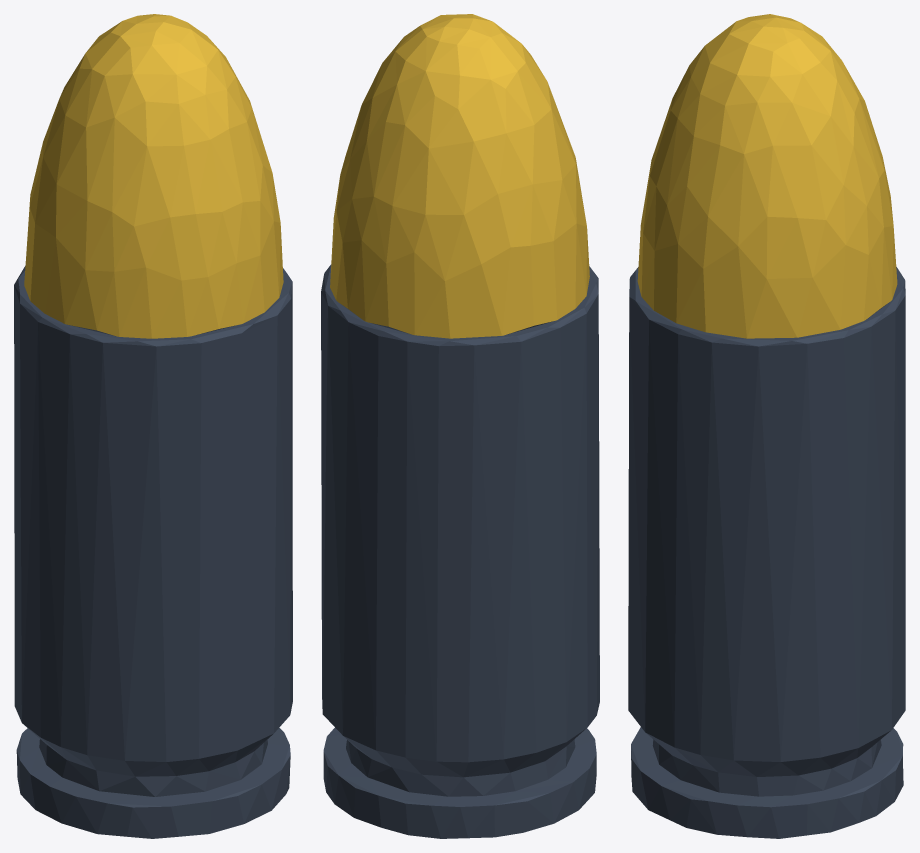
Rendered from NewBullet.obj.
3 views of the same model, side by side, from view 1: azimuth 30°, elevation 25°; view 2: azimuth 150°, elevation 25°; view 3: azimuth 270°, elevation 25° (orthographic).
Parts seen in each view (by area): view 1: Bullet.001; view 2: Bullet.001; view 3: Bullet.001.
Part boxes in pixels (x1=…): Bullet.001: x1=14, y1=14, x2=292, y2=838; Bullet.001: x1=321, y1=14, x2=599, y2=838; Bullet.001: x1=628, y1=14, x2=905, y2=838.
Bounding box in the file's own units: 1.1 × 3.3 × 1.09.
